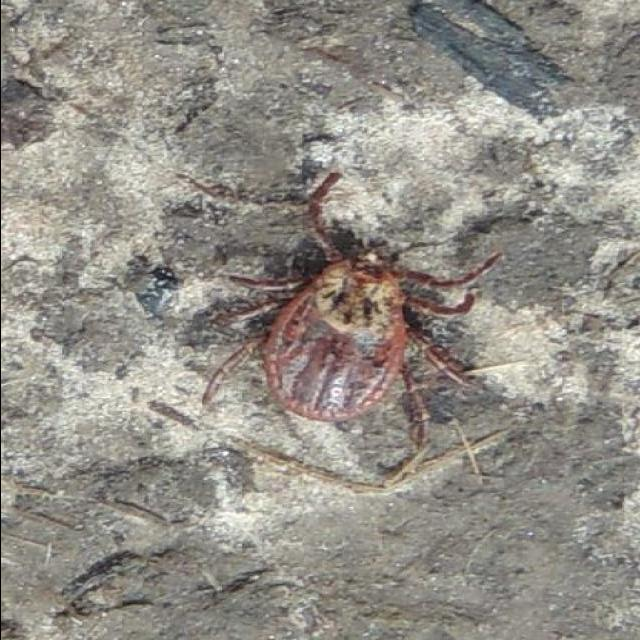Dermacentor Reticulatus-F: (202, 172, 502, 444)
